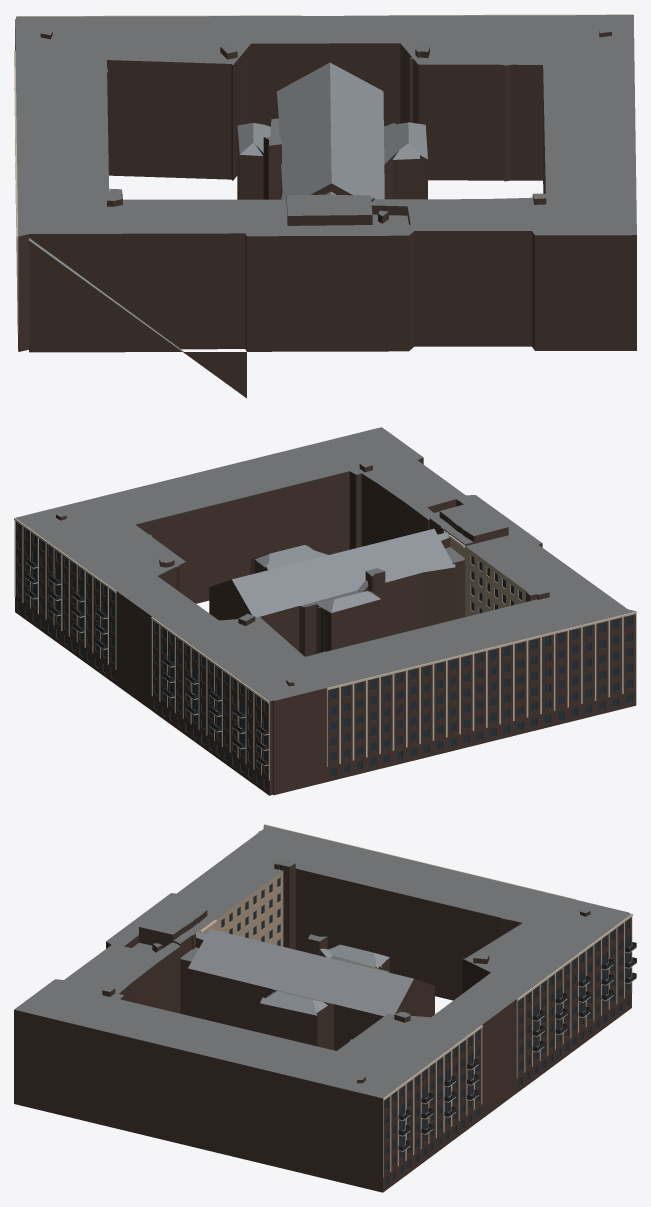
File: recipe-large-plantage-middenlaan-52-186093.glb
3 views of the same model, one above another, from view 1: azimuth 30°, elevation 25°; view 2: azimuth 150°, elevation 25°; view 3: azimuth 270°, elevation 25° (orthographic). The views are drawn at different scales.
Parts seen in each view (by area): view 1: plantage-middenlaan-52-186093; view 2: plantage-middenlaan-52-186093; view 3: plantage-middenlaan-52-186093.
Boxes of the visible parts, x1,y1,x2,y2 form: plantage-middenlaan-52-186093: (14,14,636,398); plantage-middenlaan-52-186093: (14,427,636,795); plantage-middenlaan-52-186093: (14,824,636,1192).
Size of the model in its own units: 140 by 33.35 by 134.
